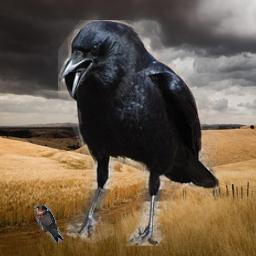Crow: (58, 20, 219, 246)
Swallow: (34, 205, 63, 243)
